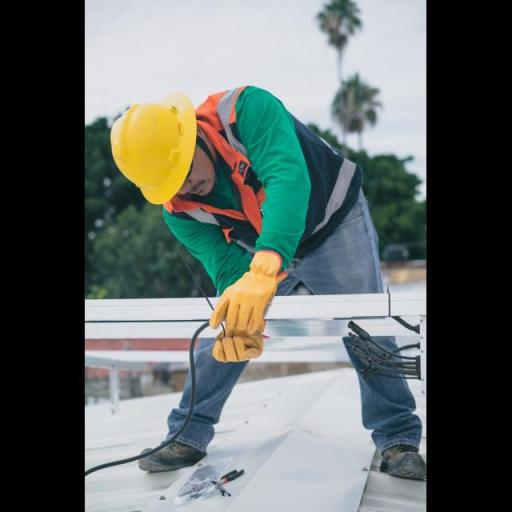Person: (77, 46, 451, 499)
boots: (127, 431, 207, 475), (379, 438, 429, 482)
gloves: (208, 252, 287, 334), (206, 326, 268, 368)
helmet: (105, 88, 194, 210)
